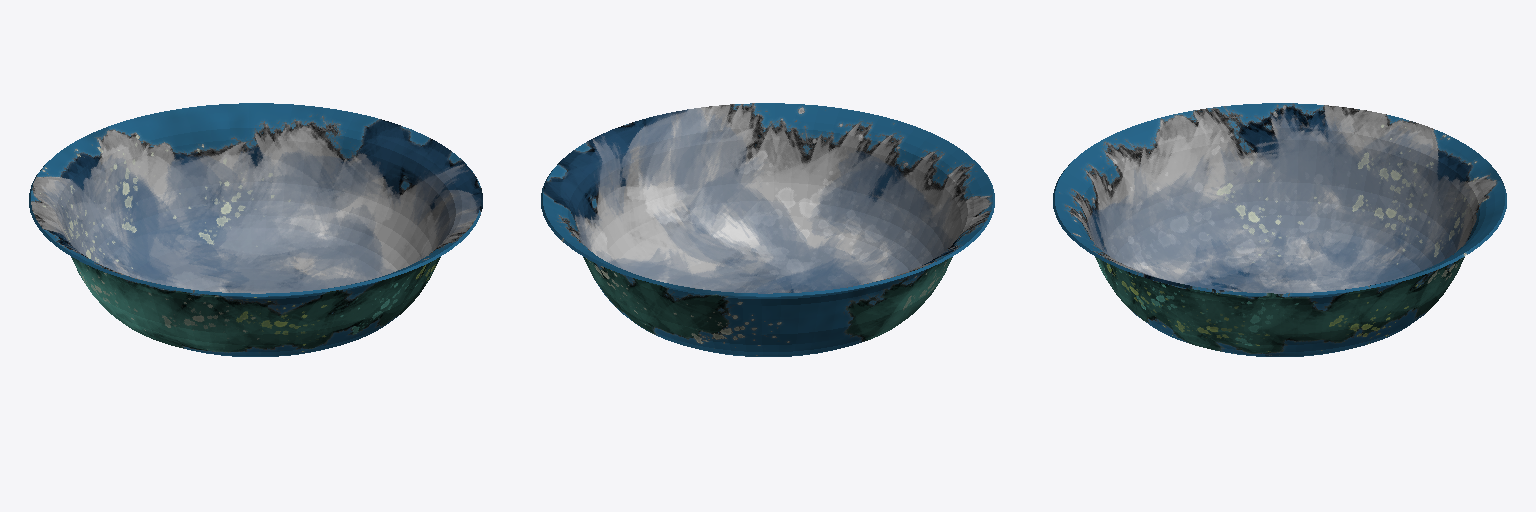
3 renders of one model, left to right at view 1: azimuth 30°, elevation 25°; view 2: azimuth 150°, elevation 25°; view 3: azimuth 270°, elevation 25°, orthographic.
Parts seen in each view (by area): view 1: Cylinder.027; view 2: Cylinder.027; view 3: Cylinder.027.
Part boxes in pixels (x1,y1,x2,y2): Cylinder.027: (29,103,482,356); Cylinder.027: (541,103,994,356); Cylinder.027: (1053,103,1506,356).
Bounding box in the file's own units: 0.3983 × 0.1113 × 0.3983.
Materials: 1 (1 with a texture image).